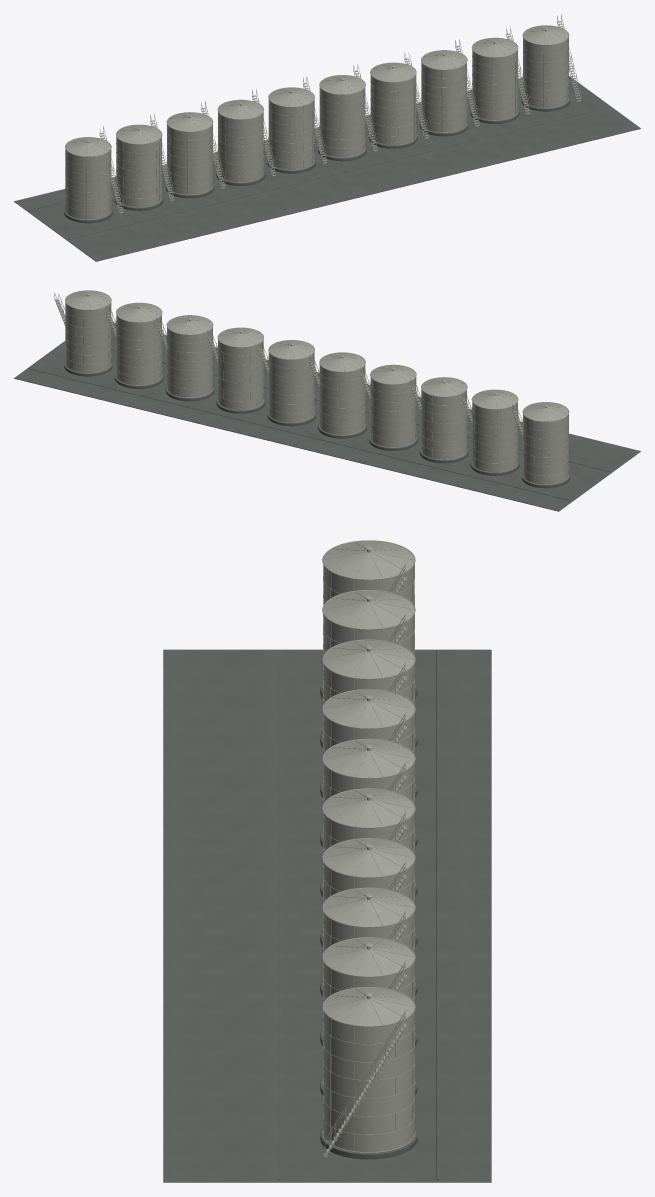
File: alajabao-storage-web.glb
3 views of the same model, one above another, from view 1: azimuth 30°, elevation 25°; view 2: azimuth 150°, elevation 25°; view 3: azimuth 270°, elevation 25° (orthographic). The views are drawn at different scales.
Parts seen in each view (by area): view 1: 储酒罐区地面 / Storage facility neutral concrete ground, 储酒罐主体 / Storage tanks brushed stainless steel, 储酒罐主体 / Storage tanks alternate steel courses, 储酒罐焊缝与罐顶 / Storage tanks brushed stainless steel, 储酒罐焊缝与罐顶 / Storage tank restrained weld seams, 储酒罐梯架与管线 / Storage tank observed red pipework, 储酒罐梯架与管线 / Storage tank ladders and catwalk steel, 储酒罐基础 / Storage facility concrete foundations, 储酒罐区地面 / Storage facility concrete foundations; view 2: 储酒罐主体 / Storage tanks brushed stainless steel, 储酒罐区地面 / Storage facility neutral concrete ground, 储酒罐主体 / Storage tanks alternate steel courses, 储酒罐焊缝与罐顶 / Storage tanks brushed stainless steel, 储酒罐焊缝与罐顶 / Storage tank restrained weld seams, 储酒罐基础 / Storage facility concrete foundations, 储酒罐梯架与管线 / Storage tank ladders and catwalk steel, 储酒罐区地面 / Storage facility concrete foundations, 储酒罐梯架与管线 / Storage tank observed red pipework; view 3: 储酒罐区地面 / Storage facility neutral concrete ground, 储酒罐焊缝与罐顶 / Storage tanks brushed stainless steel, 储酒罐主体 / Storage tanks brushed stainless steel, 储酒罐焊缝与罐顶 / Storage tank restrained weld seams, 储酒罐区地面 / Storage facility concrete foundations, 储酒罐主体 / Storage tanks alternate steel courses, 储酒罐梯架与管线 / Storage tank observed red pipework, 储酒罐基础 / Storage facility concrete foundations, 储酒罐梯架与管线 / Storage tank ladders and catwalk steel.
Boxes of the visible parts, <box> form: 储酒罐区地面 / Storage facility neutral concrete ground: <box>14,76,640,261</box>; 储酒罐主体 / Storage tanks brushed stainless steel: <box>65,37,568,219</box>; 储酒罐主体 / Storage tanks alternate steel courses: <box>65,55,568,210</box>; 储酒罐焊缝与罐顶 / Storage tanks brushed stainless steel: <box>65,25,568,156</box>; 储酒罐焊缝与罐顶 / Storage tank restrained weld seams: <box>65,25,569,219</box>; 储酒罐梯架与管线 / Storage tank observed red pipework: <box>86,14,581,219</box>; 储酒罐梯架与管线 / Storage tank ladders and catwalk steel: <box>99,21,581,213</box>; 储酒罐基础 / Storage facility concrete foundations: <box>64,96,570,223</box>; 储酒罐区地面 / Storage facility concrete foundations: <box>29,78,610,239</box>; 储酒罐主体 / Storage tanks brushed stainless steel: <box>65,300,568,484</box>; 储酒罐区地面 / Storage facility neutral concrete ground: <box>14,322,640,511</box>; 储酒罐主体 / Storage tanks alternate steel courses: <box>65,320,568,475</box>; 储酒罐焊缝与罐顶 / Storage tanks brushed stainless steel: <box>65,290,568,421</box>; 储酒罐焊缝与罐顶 / Storage tank restrained weld seams: <box>65,290,569,484</box>; 储酒罐基础 / Storage facility concrete foundations: <box>64,361,570,488</box>; 储酒罐梯架与管线 / Storage tank ladders and catwalk steel: <box>55,299,522,437</box>; 储酒罐区地面 / Storage facility concrete foundations: <box>29,349,610,500</box>; 储酒罐梯架与管线 / Storage tank observed red pipework: <box>54,292,522,425</box>; 储酒罐区地面 / Storage facility neutral concrete ground: <box>163,649,491,1182</box>; 储酒罐焊缝与罐顶 / Storage tanks brushed stainless steel: <box>323,541,414,1025</box>; 储酒罐主体 / Storage tanks brushed stainless steel: <box>323,561,414,1152</box>; 储酒罐焊缝与罐顶 / Storage tank restrained weld seams: <box>322,540,415,1152</box>; 储酒罐区地面 / Storage facility concrete foundations: <box>278,650,439,1179</box>; 储酒罐主体 / Storage tanks alternate steel courses: <box>323,599,414,1134</box>; 储酒罐梯架与管线 / Storage tank observed red pipework: <box>324,563,405,1155</box>; 储酒罐基础 / Storage facility concrete foundations: <box>320,680,417,1159</box>; 储酒罐梯架与管线 / Storage tank ladders and catwalk steel: <box>324,577,406,1157</box>.
Bounding box in the file's own units: 72.9 × 9.61 × 19.
Materials: 7 (7 with a texture image).
